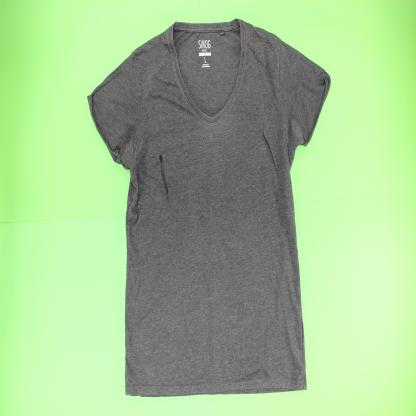hole: (261, 124, 278, 174), (158, 151, 170, 202)
